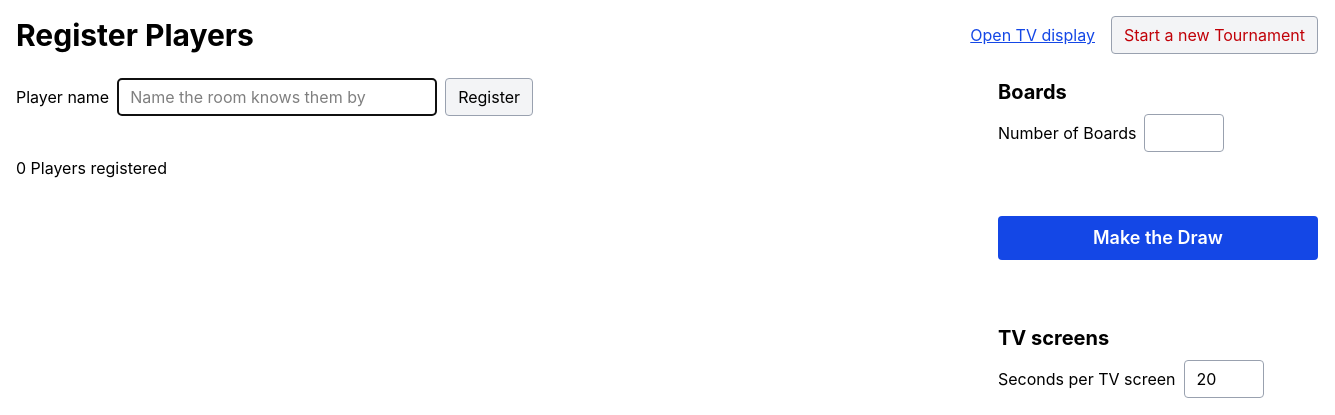
the organizer route › shows the reason when a name is refused, and keeps what was typed
In the field labelled "Player name": {"x": 277, "y": 97} [117,78,437,116], type "Big Dave"
Then press Enter
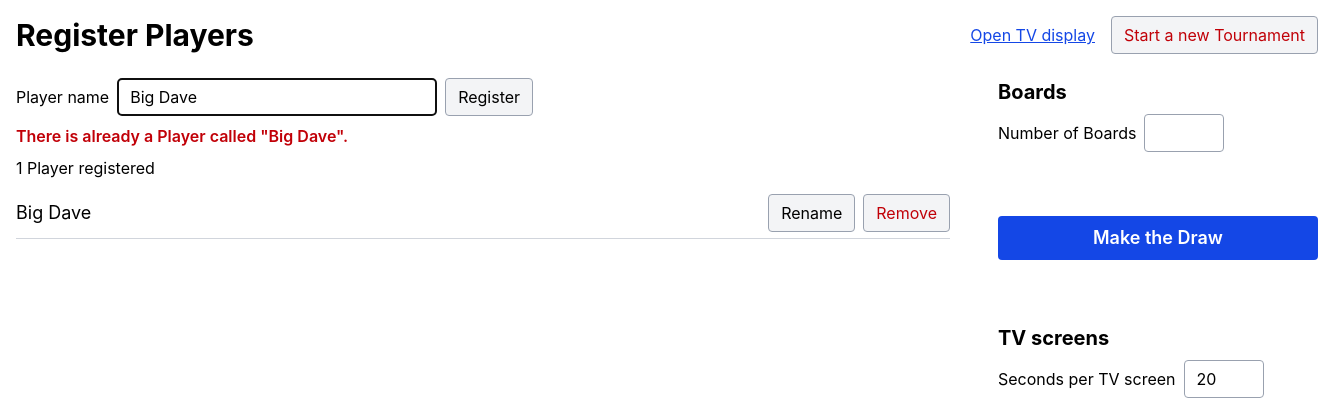
Expected: the message "There is already a Player called \"Big Dave\"." reads "There is already a Player called \"Big Dave\".", [16,126,348,146]
